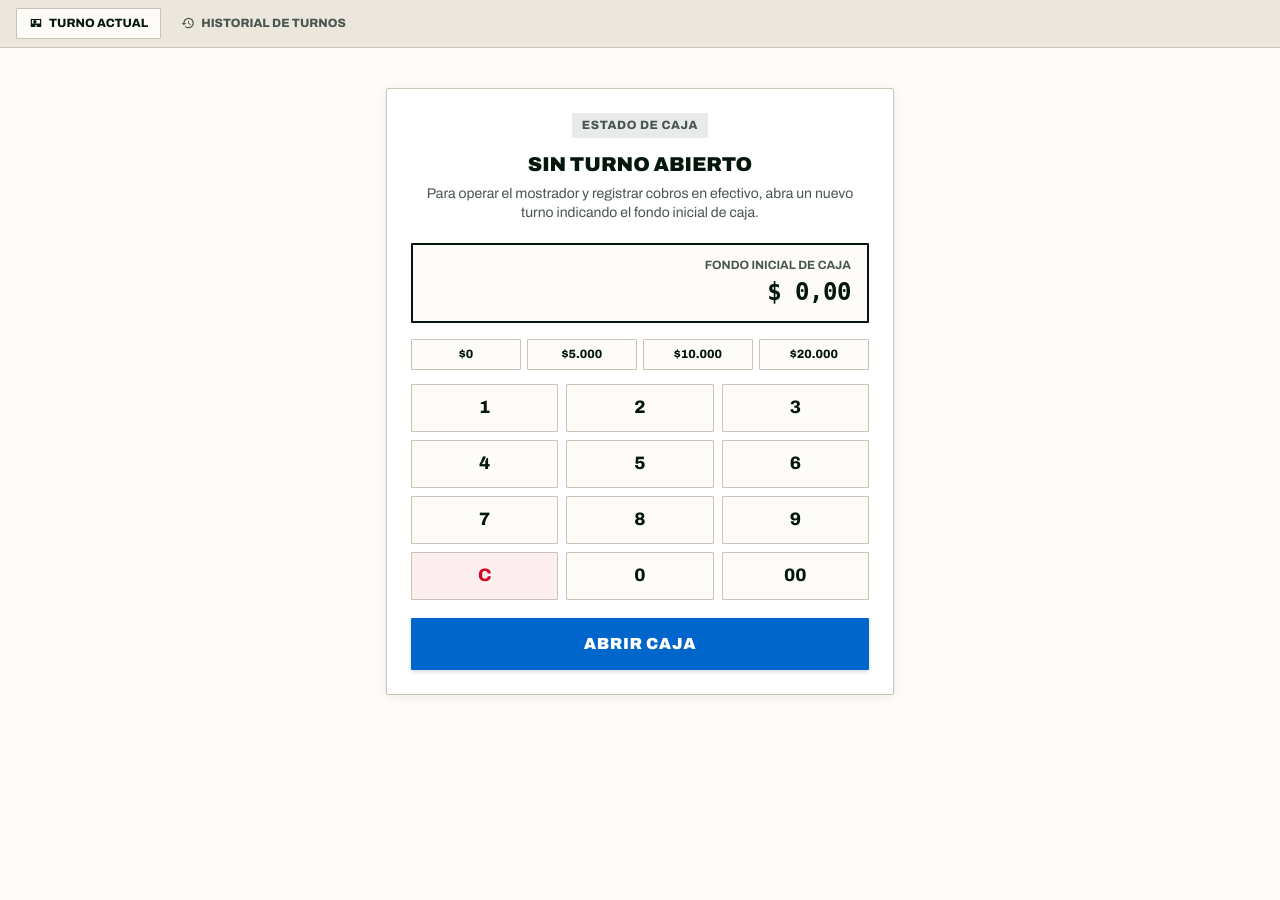
CashScreen Component - Cash Shift UI & Arqueo Flow › shows history subtab for OWNER and switches to history view
Step 1. Click the button with test id "cash-subtab-history" → coordinates (264, 23), box 169,9 -> 358,38
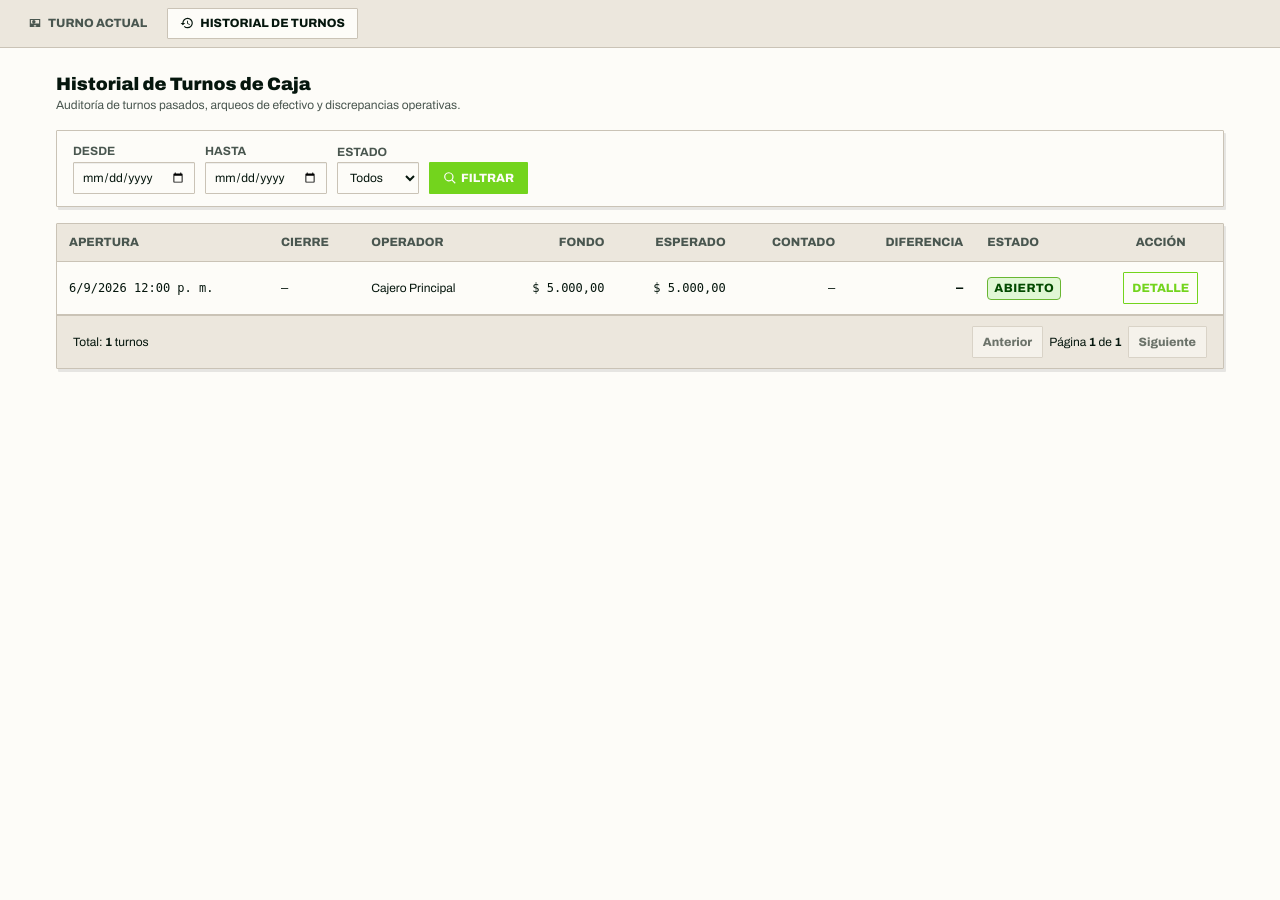
Now the heading "Historial de Turnos de Caja" is shown, box 56,74 -> 311,94
